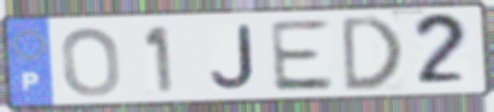1: (140, 23, 176, 96)
2: (408, 11, 477, 93)
D: (339, 13, 405, 94)
E: (266, 17, 338, 94)
J: (208, 22, 259, 92)
O: (58, 25, 123, 99)
